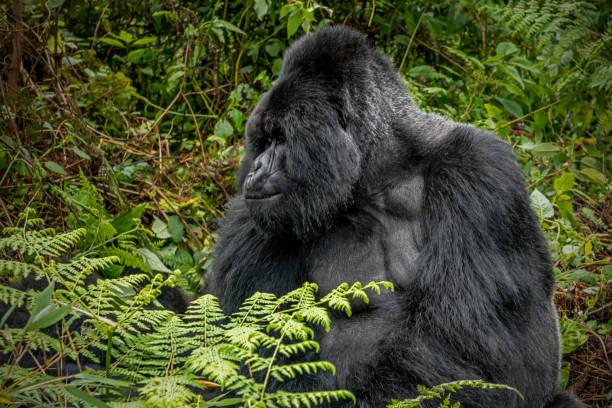goriile_montagne: (212, 15, 587, 408)
